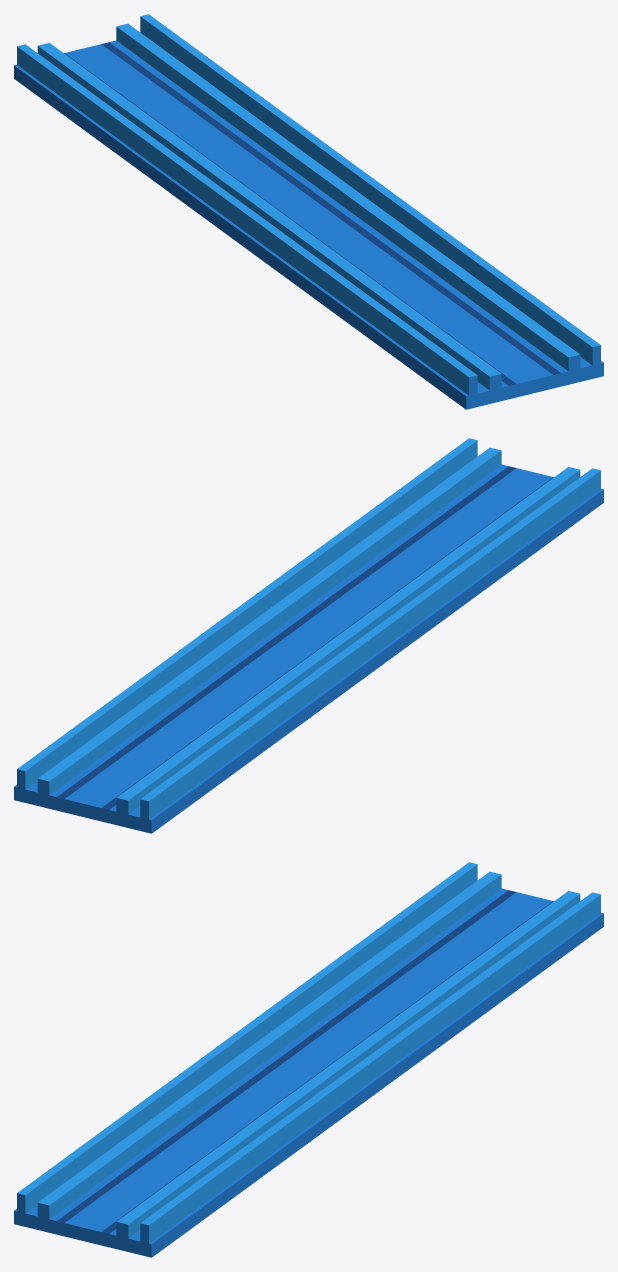
The model's file is Track_Straight.fbx.
3 views of the same model, one above another, from view 1: azimuth 30°, elevation 25°; view 2: azimuth 150°, elevation 25°; view 3: azimuth 330°, elevation 25° (orthographic).
Parts seen in each view (by area): view 1: Molded blue rail; view 2: Molded blue rail; view 3: Molded blue rail.
Boxes of the visible parts, left/top/right/bottom form: Molded blue rail: left=14, top=14, right=603, bottom=409; Molded blue rail: left=14, top=438, right=603, bottom=833; Molded blue rail: left=14, top=862, right=603, bottom=1257.
Bounding box in the file's own units: 106 × 23.21 × 600.
